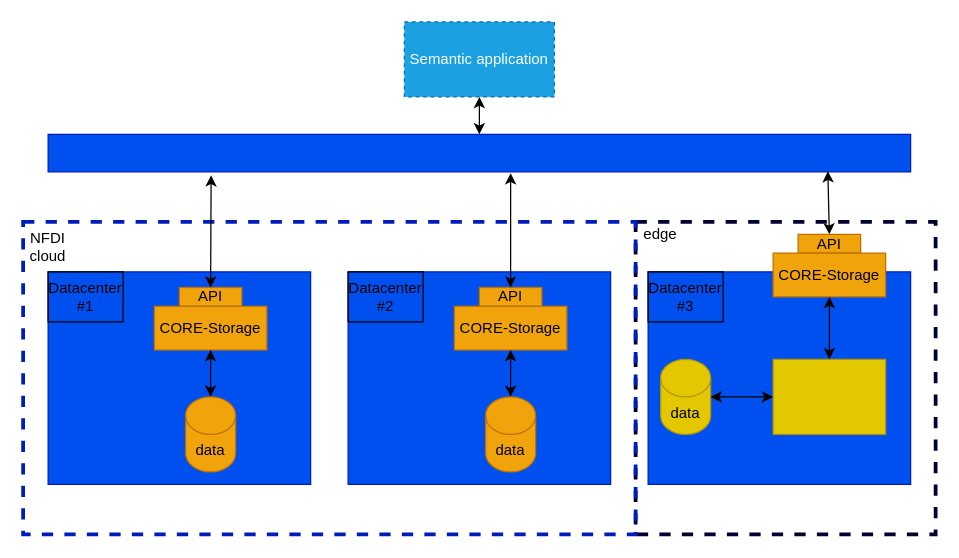
This 959x558 diagram has some shape labels left out. Each missing label, with the centre of its shape:
"local storage application" goes at pixel 829 396.
"Middleware" goes at pixel 479 152.
